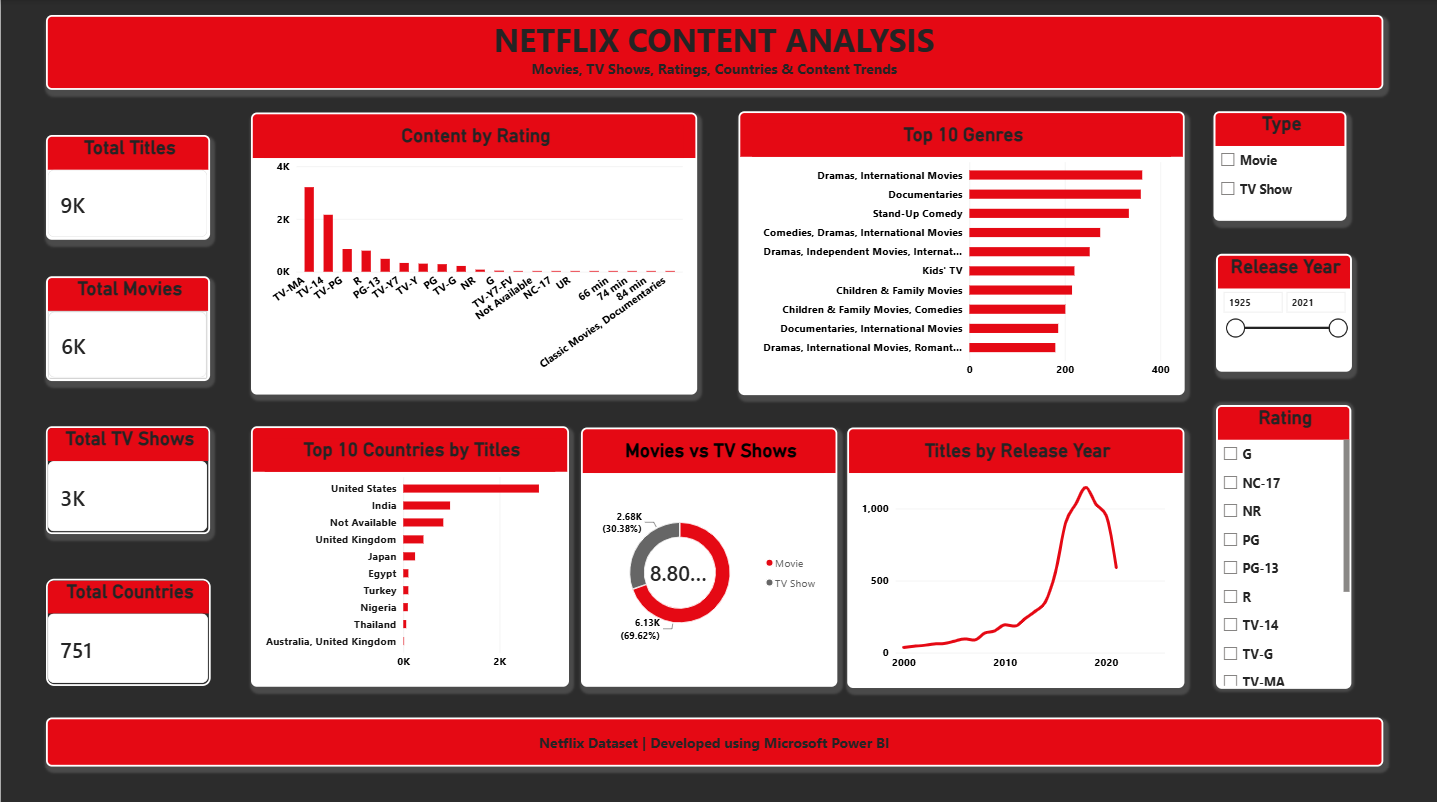

Layout of this report page (visuals, bound fields, positions):
{"tool":"powerbi","page":{"name":"Page 1","canvas":[1920,1080],"ordinal":0},"visuals":[{"type":"cardVisual","title":"Total Titles","fields":{"Data":["netflix_cleaned.Total Titles"]},"box":[59.6,180.8,219.2,140.4],"z":0},{"type":"cardVisual","title":"Total Movies","fields":{"Data":["netflix_cleaned.Total Movies"]},"box":[59.6,369.2,219.2,140.4],"z":1000},{"type":"cardVisual","title":"Total TV Shows","fields":{"Data":["netflix_cleaned.Total TV Shows"]},"box":[59.6,569.2,219.2,144],"z":2000},{"type":"cardVisual","title":"Total Countries","fields":{"Data":["netflix_cleaned.Total Countries"]},"box":[59.6,773.1,220,143.3],"z":3000},{"type":"donutChart","title":"Movies vs TV Shows","fields":{"Category":["netflix_cleaned.Type"],"Y":["CountNonNull(netflix_cleaned.Show Id)"]},"box":[775,571.2,342.3,346.2],"z":4000},{"type":"lineChart","title":"Titles by Release Year","fields":{"Category":["netflix_cleaned.Release Year"],"Y":["CountNonNull(netflix_data.Show Id)"]},"box":[1130.8,571.2,450,348.1],"z":5000},{"type":"clusteredBarChart","title":"Top 10 Countries by Titles","fields":{"Category":["netflix_cleaned.Country"],"Y":["CountNonNull(netflix_cleaned.Show Id)"]},"box":[334.6,569.2,425,348.1],"z":6000},{"type":"clusteredColumnChart","title":"Content by Rating","fields":{"Category":["netflix_cleaned.Rating"],"Y":["CountNonNull(netflix_cleaned.Show Id)"]},"box":[334.6,150,596.2,376.9],"z":7000},{"type":"clusteredBarChart","title":"Top 10 Genres","fields":{"Category":["netflix_cleaned.Listed In"],"Y":["CountNonNull(netflix_cleaned.Show Id)"]},"box":[984.6,148.1,596.2,378.8],"z":8000},{"type":"slicer","title":"Type","fields":{"Values":["netflix_data.Type"]},"box":[1619.2,148.1,177.8,146.3],"z":9000},{"type":"slicer","title":"Release Year","fields":{"Values":["netflix_data.Release Year"]},"box":[1623.1,338.5,181.4,157.6],"z":10000},{"type":"slicer","title":"Rating ","fields":{"Values":["netflix_data.Rating"]},"box":[1623.1,540.4,180.8,378.8],"z":11000},{"type":"textbox","box":[60,20,1786.7,100],"z":12000},{"type":"textbox","box":[59.6,957.7,1786.5,65.4],"z":13000}]}

Visuals, with their boxes in screenshot pixels (x1, y1, x2, y2), scaled from the page's 1920x1080 canvas onto the 1437x802 screenshot:
"Total Titles" cardVisual: 45,134,209,239
"Total Movies" cardVisual: 45,274,209,378
"Total TV Shows" cardVisual: 45,423,209,530
"Total Countries" cardVisual: 45,574,209,681
"Movies vs TV Shows" donutChart: 580,424,836,681
"Titles by Release Year" lineChart: 846,424,1183,683
"Top 10 Countries by Titles" clusteredBarChart: 250,423,569,681
"Content by Rating" clusteredColumnChart: 250,111,697,391
"Top 10 Genres" clusteredBarChart: 737,110,1183,391
"Type" slicer: 1212,110,1345,219
"Release Year" slicer: 1215,251,1351,368
"Rating " slicer: 1215,401,1350,683
textbox: 45,15,1382,89
textbox: 45,711,1382,760
